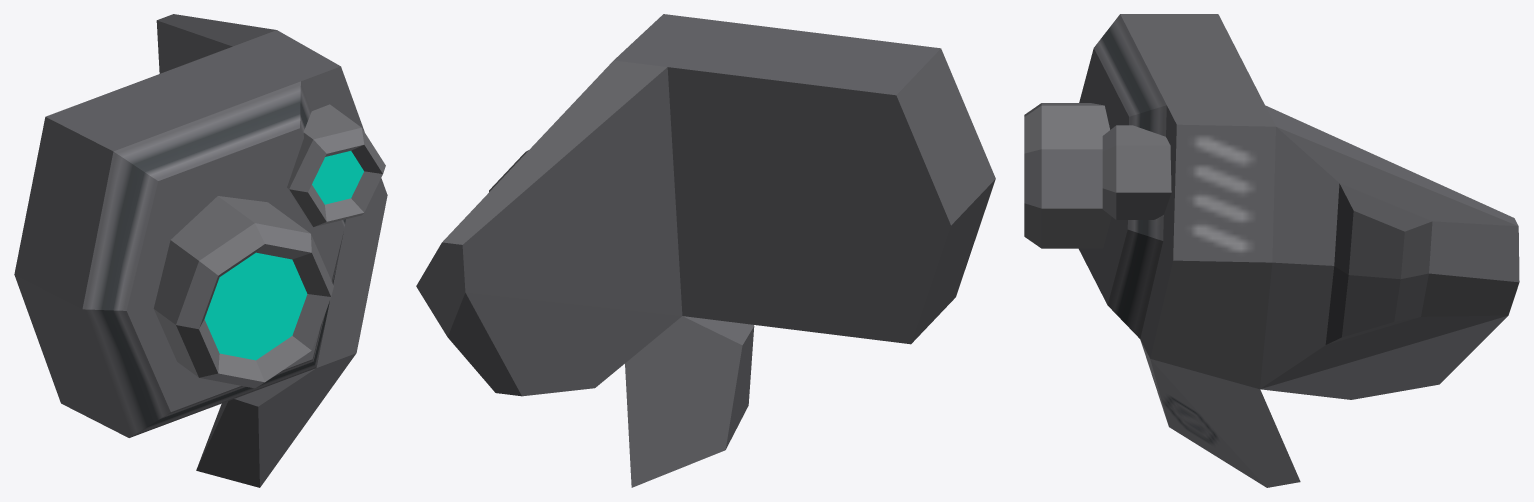
File: SM_Chr_Attach_Cybernetics_Male_02.fbx
The picture shows the model from 3 angles, left to right: view 1: azimuth 30°, elevation 25°; view 2: azimuth 150°, elevation 25°; view 3: azimuth 270°, elevation 25°; orthographic projection. The views are drawn at different scales.
Visible parts, largest first — view 1: SM_Chr_Attach_Cybernetics_Male_02; view 2: SM_Chr_Attach_Cybernetics_Male_02; view 3: SM_Chr_Attach_Cybernetics_Male_02.
Part boxes in pixels (bbox=[...]): SM_Chr_Attach_Cybernetics_Male_02: bbox=[14, 14, 387, 487]; SM_Chr_Attach_Cybernetics_Male_02: bbox=[416, 14, 995, 487]; SM_Chr_Attach_Cybernetics_Male_02: bbox=[1024, 14, 1519, 487].
Size of the model in its own units: 11.66 by 13.09 by 15.62.
